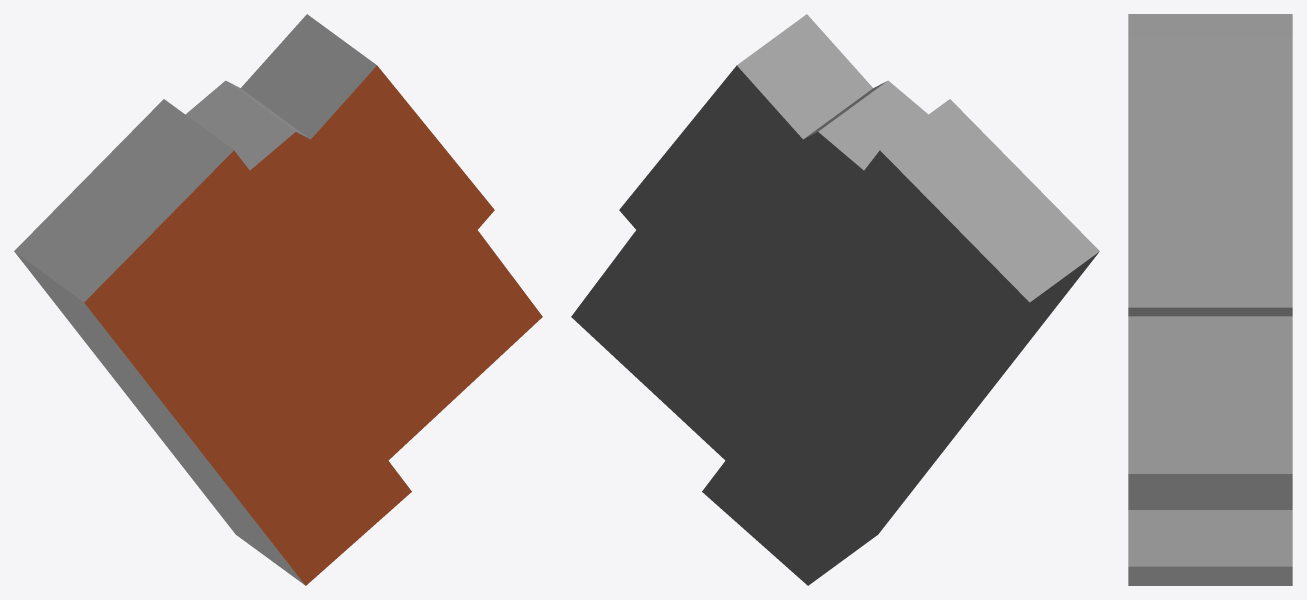
The model's file is construction_2183_assumed_A_Casa_h6m.obj.
3 views of the same model, side by side, from view 1: azimuth 30°, elevation 25°; view 2: azimuth 150°, elevation 25°; view 3: azimuth 270°, elevation 25° (orthographic). The views are drawn at different scales.
Visible parts, largest first — view 1: construction_2183_assumed_A_Casa; view 2: construction_2183_assumed_A_Casa; view 3: construction_2183_assumed_A_Casa.
Boxes of the visible parts, box(x1,y1,x2,y2) form: construction_2183_assumed_A_Casa: box(14, 14, 542, 585); construction_2183_assumed_A_Casa: box(571, 14, 1099, 585); construction_2183_assumed_A_Casa: box(1128, 14, 1292, 585).
Bounding box in the file's own units: 22.65 × 23.74 × 6.
